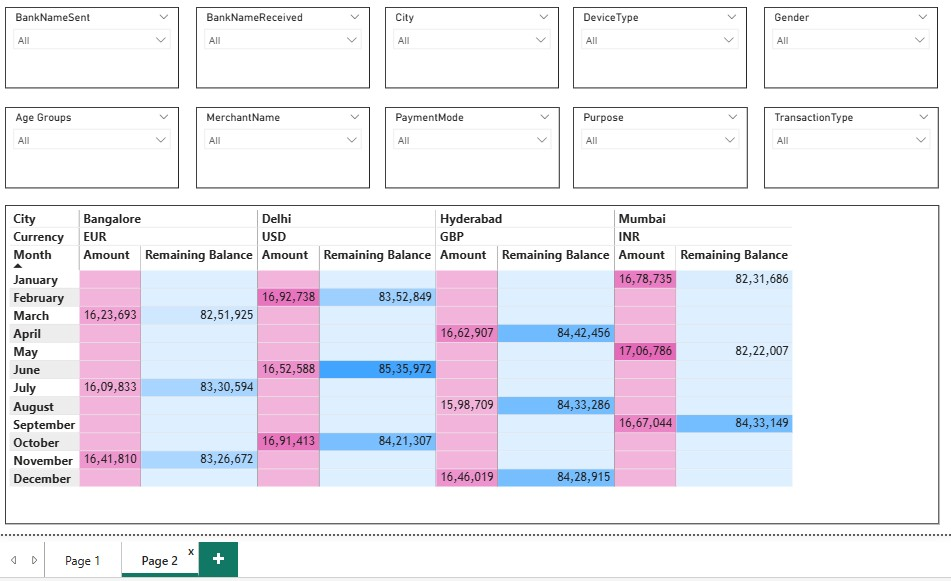

The page's visual inventory and layout, read from the dashboard file:
{"tool":"powerbi","page":{"name":"Page 2","canvas":[1280,720],"ordinal":1},"visuals":[{"type":"slicer","fields":{"Values":["UPI Transactions.BankNameSent"]},"box":[20,20,230.8,107.7],"z":0},{"type":"slicer","fields":{"Values":["Sheet1.BankNameReceived"]},"box":[273.8,20,230.8,107.7],"z":1000},{"type":"slicer","fields":{"Values":["UPI Transactions.City"]},"box":[524.6,20,230.8,107.7],"z":2000},{"type":"slicer","fields":{"Values":["UPI Transactions.DeviceType"]},"box":[773.8,20,230.8,107.7],"z":3000},{"type":"slicer","fields":{"Values":["UPI Transactions.Gender"]},"box":[1027.7,20,230.8,107.7],"z":4000},{"type":"slicer","fields":{"Values":["UPI Transactions.Age Groups"]},"box":[20,152.3,230.8,107.7],"z":5000},{"type":"slicer","fields":{"Values":["UPI Transactions.MerchantName"]},"box":[273.8,152.3,230.8,107.7],"z":6000},{"type":"slicer","fields":{"Values":["UPI Transactions.PaymentMode"]},"box":[524.6,152.3,232.3,107.7],"z":7000},{"type":"slicer","fields":{"Values":["UPI Transactions.Purpose"]},"box":[773.8,152.3,232.3,107.7],"z":8000},{"type":"slicer","fields":{"Values":["UPI Transactions.TransactionType"]},"box":[1027.7,152.3,232.3,107.7],"z":9000},{"type":"pivotTable","fields":{"Values":["Sum(UPI Transactions.Amount)","Sum(UPI Transactions.RemainingBalance)"],"Rows":["UPI Transactions.TransactionDate.Variation.Date Hierarchy.Month"],"Columns":["UPI Transactions.City","UPI Transactions.Currency"]},"box":[19.4,282.3,1241.3,424.2],"z":10000}]}

Visuals, with their boxes on the page's 1280x720 design canvas (x1, y1, x2, y2). These are canvas units, not pixel positions in the 951x581 screenshot, which may show the page scaled, cropped or inside an application window:
slicer - UPI Transactions.BankNameSent: (x1=20, y1=20, x2=251, y2=128)
slicer - Sheet1.BankNameReceived: (x1=274, y1=20, x2=505, y2=128)
slicer - UPI Transactions.City: (x1=525, y1=20, x2=755, y2=128)
slicer - UPI Transactions.DeviceType: (x1=774, y1=20, x2=1005, y2=128)
slicer - UPI Transactions.Gender: (x1=1028, y1=20, x2=1258, y2=128)
slicer - UPI Transactions.Age Groups: (x1=20, y1=152, x2=251, y2=260)
slicer - UPI Transactions.MerchantName: (x1=274, y1=152, x2=505, y2=260)
slicer - UPI Transactions.PaymentMode: (x1=525, y1=152, x2=757, y2=260)
slicer - UPI Transactions.Purpose: (x1=774, y1=152, x2=1006, y2=260)
slicer - UPI Transactions.TransactionType: (x1=1028, y1=152, x2=1260, y2=260)
pivotTable - Sum(UPI Transactions.Amount) x Sum(UPI Transactions.RemainingBalance): (x1=19, y1=282, x2=1261, y2=706)
